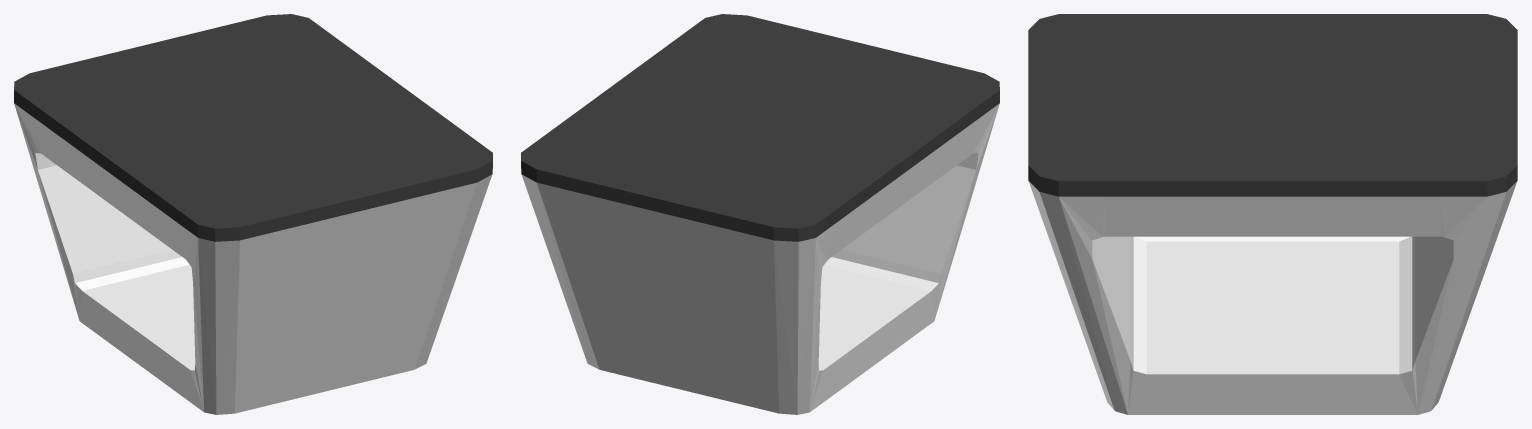
Rendered from desk01.obj.
3 views of the same model, side by side, from view 1: azimuth 30°, elevation 25°; view 2: azimuth 150°, elevation 25°; view 3: azimuth 270°, elevation 25° (orthographic). The views are drawn at different scales.
Parts seen in each view (by area): view 1: Cube; view 2: Cube; view 3: Cube.
Boxes of the visible parts, box(x1,y1,x2,y2) form: Cube: box(14, 14, 492, 414); Cube: box(521, 14, 999, 414); Cube: box(1028, 14, 1517, 414).
Bounding box in the file's own units: 1.43 × 1.01 × 1.77.
Materials: 1 (1 with a texture image).
